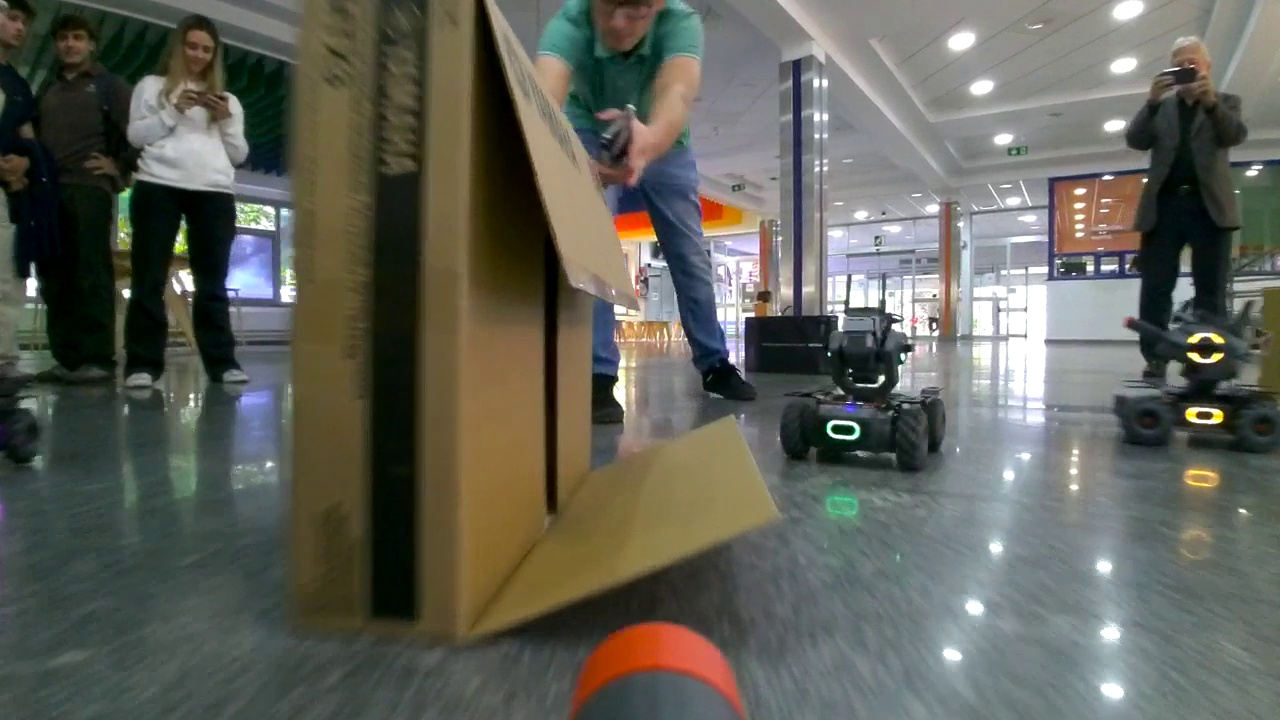robot: (780, 303, 949, 473), (1119, 316, 1280, 448)
